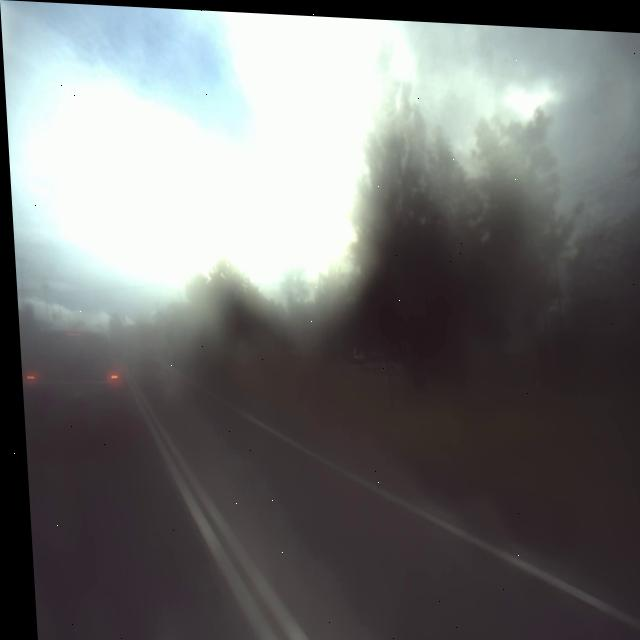car: (15, 313, 125, 437)
